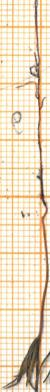flower: (0, 332, 50, 392)
root: (14, 0, 48, 192)
stem: (37, 195, 50, 336)
